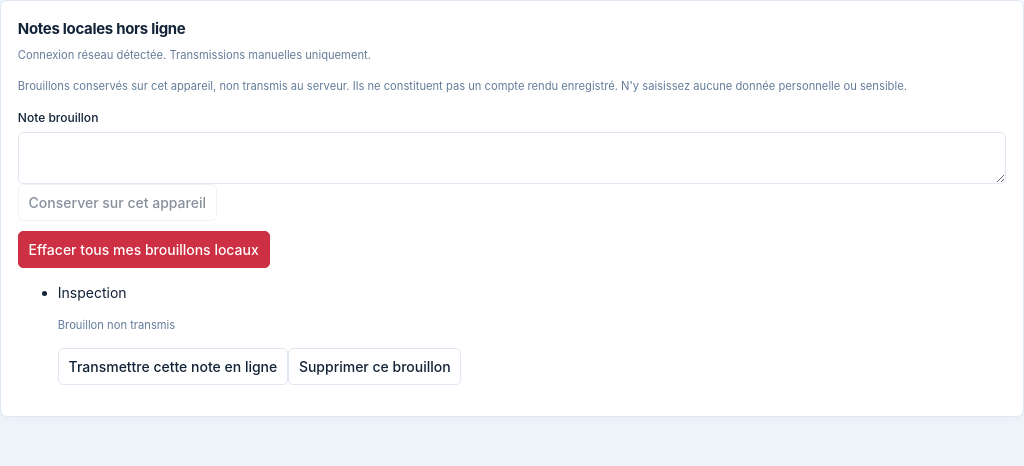
réaffiche l'état IndexedDB après un envoi échoué
Click the button "Transmettre cette note en ligne" at [173, 367], box [58,348,288,385]
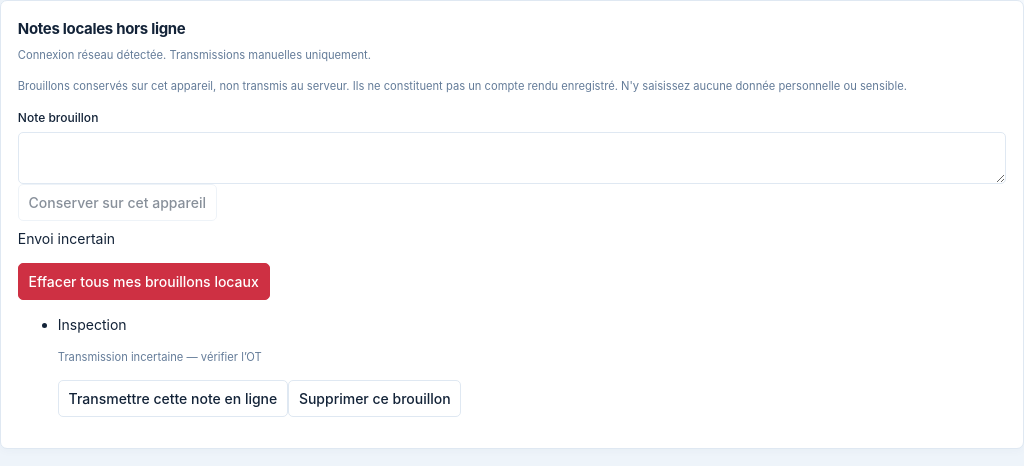
Now the text "Transmission incertaine — vérifier l’OT" is shown, box [58,350,262,364]
Now the message "Envoi incertain" is shown, box [18,230,115,247]
